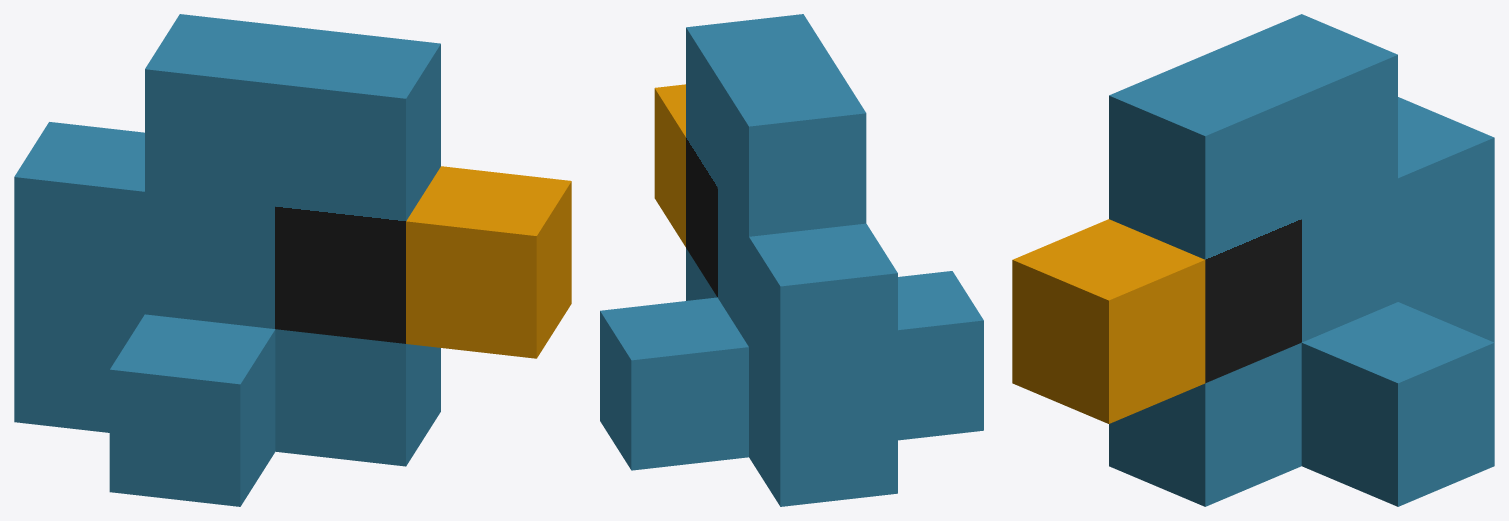
Rendered from birb.glb.
The picture shows the model from 3 angles, left to right: view 1: azimuth 30°, elevation 25°; view 2: azimuth 150°, elevation 25°; view 3: azimuth 270°, elevation 25°; orthographic projection. The views are drawn at different scales.
Parts seen in each view (by area): view 1: pl0; view 2: pl0; view 3: pl0.
Boxes of the visible parts, x1=… form: pl0: x1=14, y1=14, x2=571, y2=506; pl0: x1=600, y1=14, x2=983, y2=506; pl0: x1=1012, y1=14, x2=1494, y2=506.
Size of the model in its own units: 3.54 by 3 by 3.54.
Materials: 1 (1 with a texture image).
